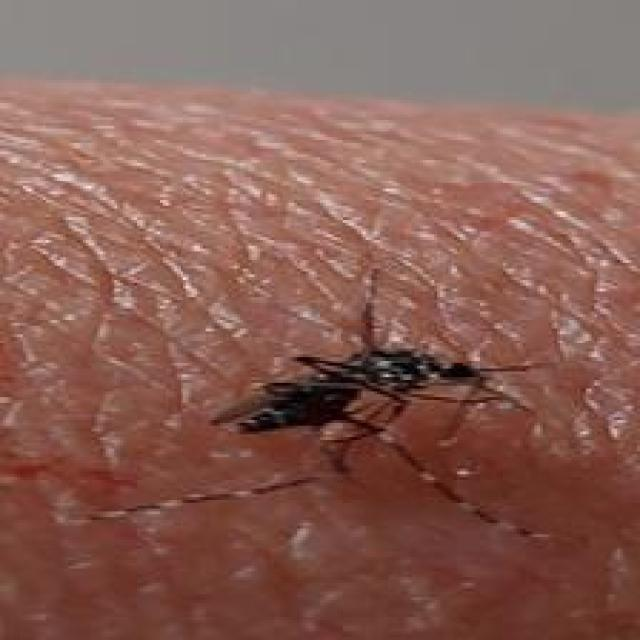Aedes albopictus: (207, 266, 547, 540)
